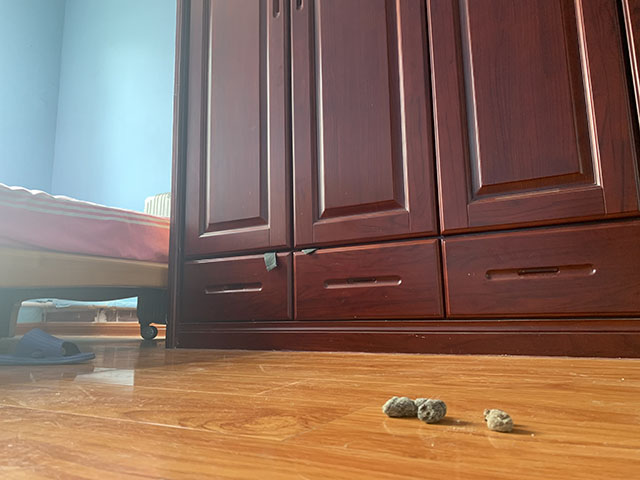bed: (1, 181, 170, 342)
cabinet: (165, 1, 640, 359)
feces: (381, 395, 448, 424), (483, 407, 515, 434)
slippers: (1, 327, 96, 366)
